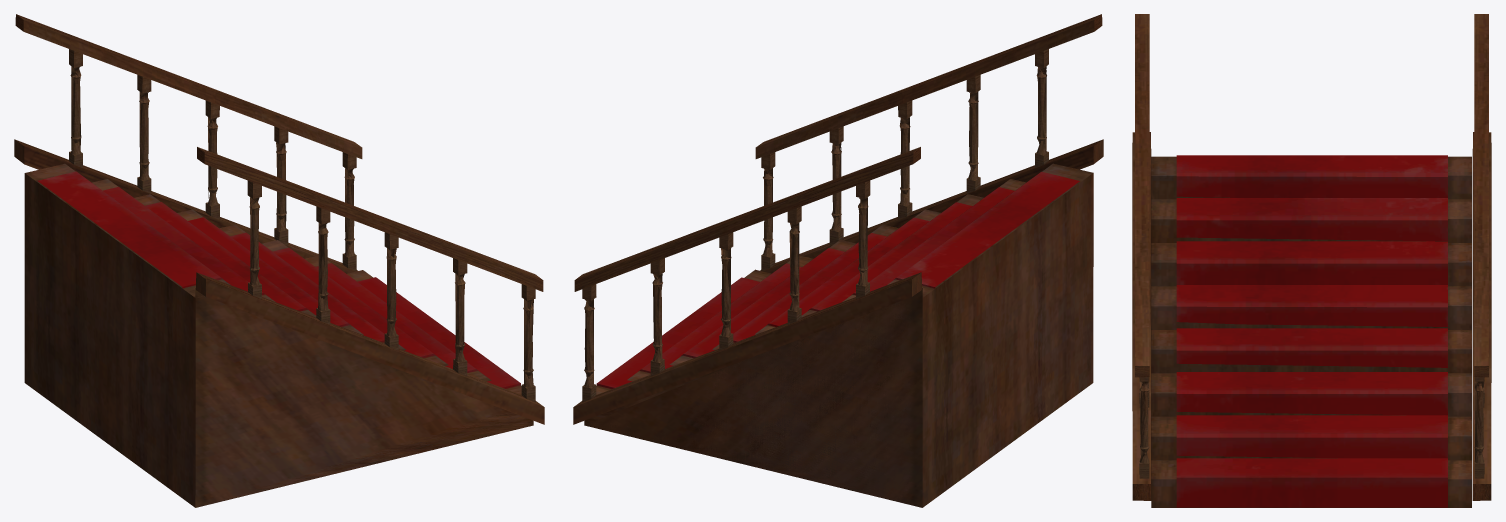
File: item_halloween_staircase.glb
The picture shows the model from 3 angles, left to right: view 1: azimuth 30°, elevation 25°; view 2: azimuth 150°, elevation 25°; view 3: azimuth 270°, elevation 25°; orthographic projection. The views are drawn at different scales.
Parts seen in each view (by area): view 1: Staircase_submesh_1, Staircase_submesh_0; view 2: Staircase_submesh_1, Staircase_submesh_0; view 3: Staircase_submesh_0, Staircase_submesh_1.
Part boxes in pixels (x1=…): Staircase_submesh_1: x1=24, y1=163, x2=533, y2=507; Staircase_submesh_0: x1=14, y1=14, x2=544, y2=424; Staircase_submesh_1: x1=584, y1=163, x2=1093, y2=507; Staircase_submesh_0: x1=573, y1=14, x2=1103, y2=424; Staircase_submesh_0: x1=1132, y1=14, x2=1491, y2=507; Staircase_submesh_1: x1=1151, y1=156, x2=1471, y2=507.
Size of the model in its own units: 1.03 by 1.05 by 1.01.
2 materials, 2 textured.
